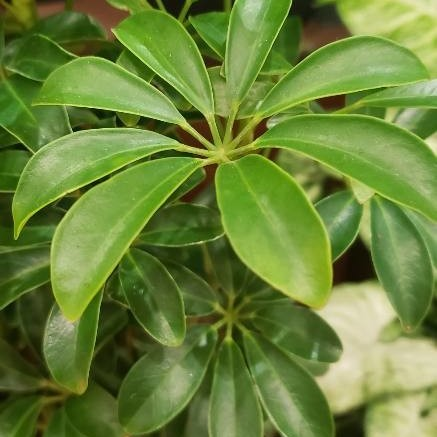obstacle: (27, 2, 430, 330)
